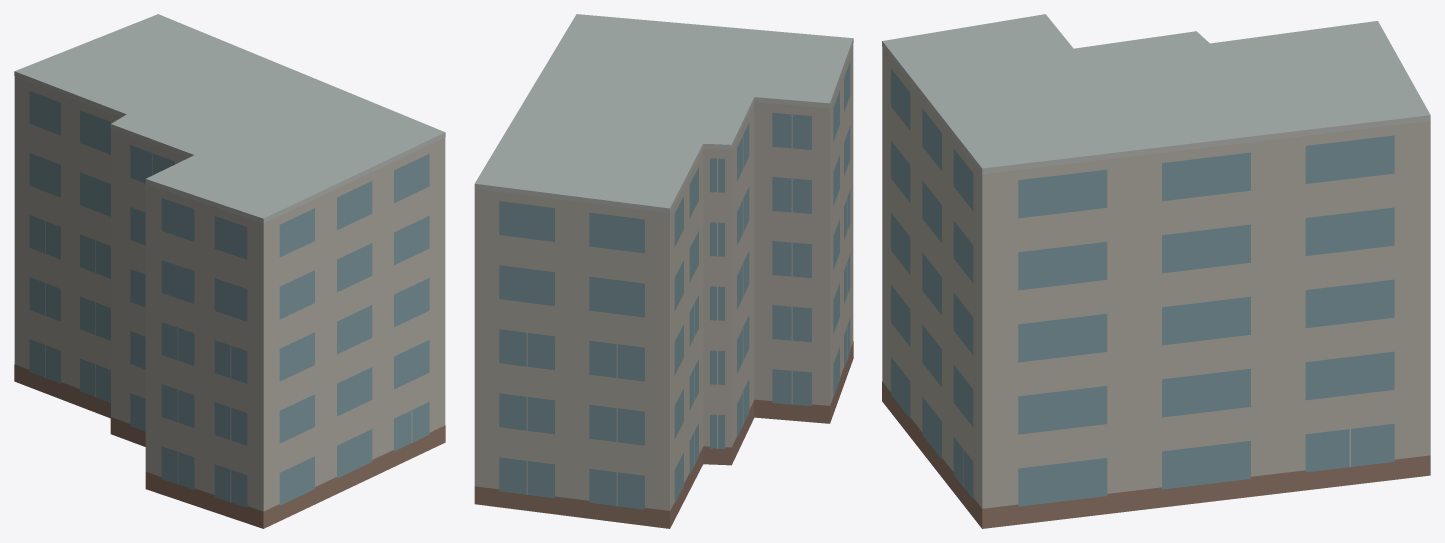
File: survey-upis-32579378.glb
The picture shows the model from 3 angles, left to right: view 1: azimuth 30°, elevation 25°; view 2: azimuth 150°, elevation 25°; view 3: azimuth 270°, elevation 25°; orthographic projection. The views are drawn at different scales.
Parts seen in each view (by area): view 1: survey-upis-32579378.tmp; view 2: survey-upis-32579378.tmp; view 3: survey-upis-32579378.tmp.
Part boxes in pixels (x1,y1,x2,y2): survey-upis-32579378.tmp: (14, 14, 445, 528); survey-upis-32579378.tmp: (474, 14, 853, 528); survey-upis-32579378.tmp: (882, 14, 1430, 528).
Size of the model in its own units: 14.26 by 15.5 by 21.39.
